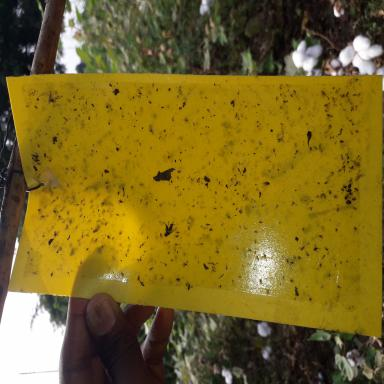pbw: (322, 244, 330, 253), (118, 270, 125, 279), (297, 244, 306, 251), (80, 231, 86, 241), (217, 272, 224, 280), (318, 232, 324, 241), (140, 240, 146, 248), (91, 144, 97, 152), (148, 264, 154, 272), (172, 200, 177, 208), (219, 221, 225, 227), (137, 243, 143, 249), (138, 142, 143, 149), (204, 223, 212, 227), (242, 222, 246, 230), (224, 234, 228, 240), (233, 246, 239, 250), (149, 146, 153, 152), (199, 225, 204, 229)
